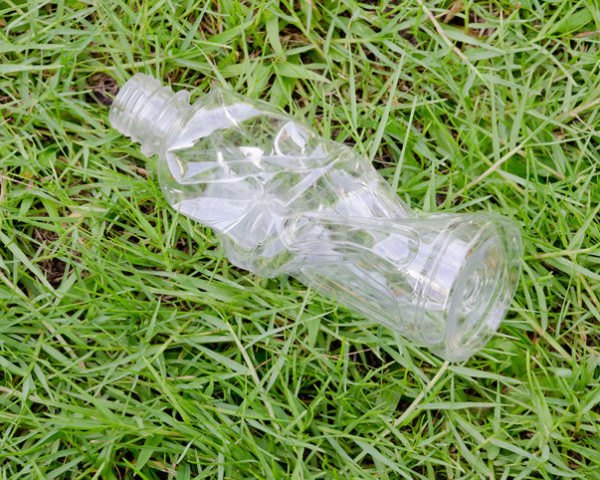plastic_bottle: (100, 62, 532, 370)
